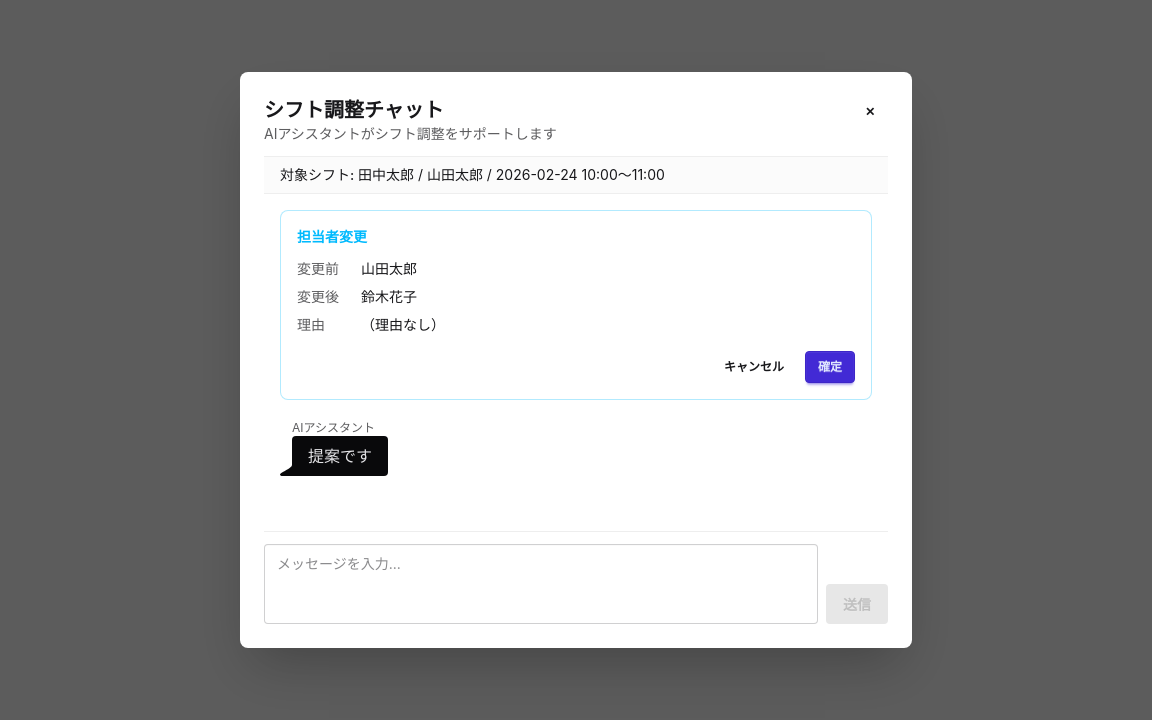
Test: AdjustmentChatDialog › 確定成功時にカードが非表示になる
The width and height of the screenshot is (1152, 720).
Expected: the text "担当者変更" is shown, [297,228,367,245]
Click the button "確定" at (830, 367), box [805,351,855,383]
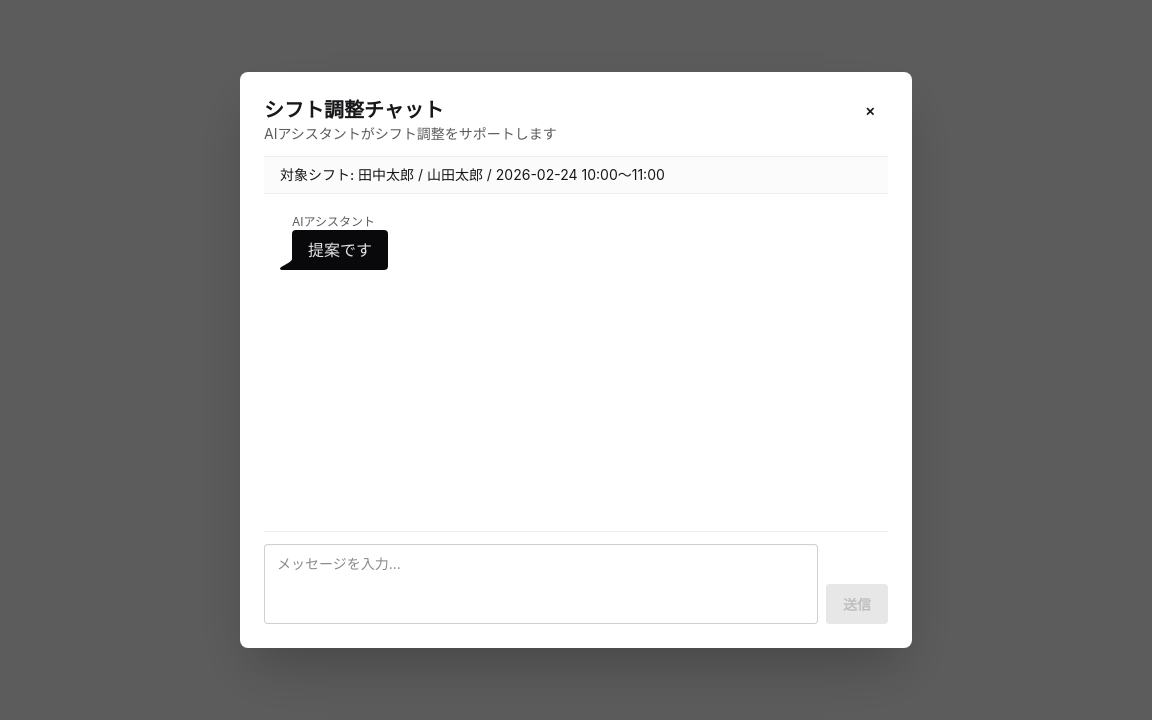
Result: the text "担当者変更" is gone
